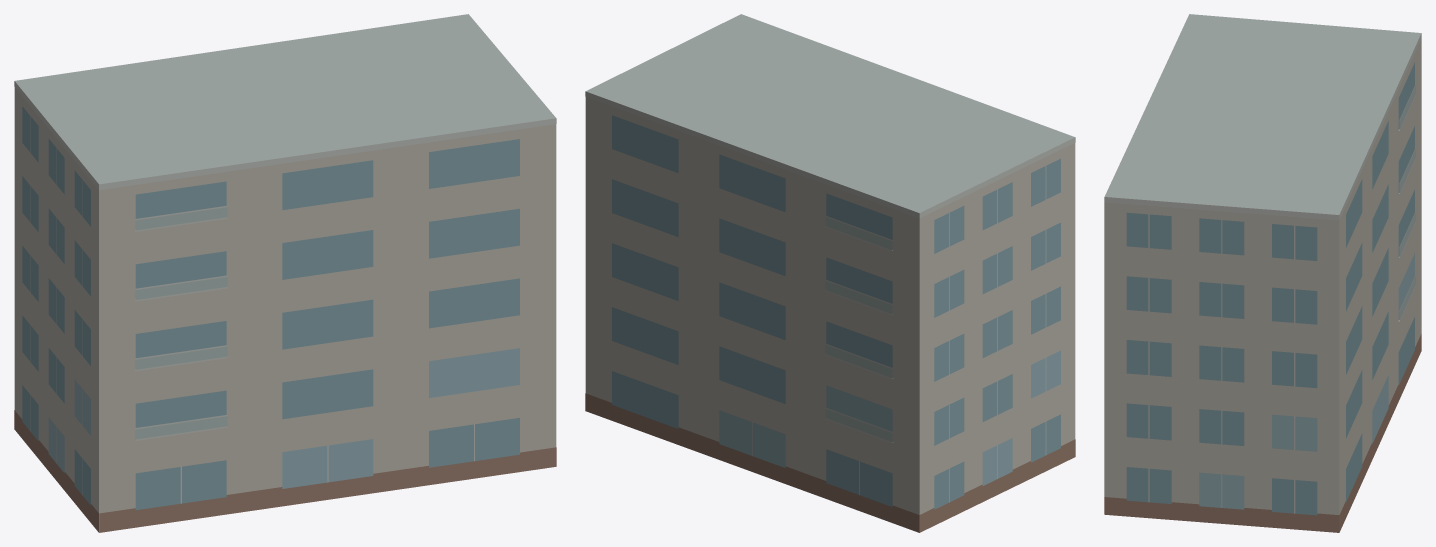
Rendered from survey-upis-32945224.glb.
3 views of the same model, side by side, from view 1: azimuth 30°, elevation 25°; view 2: azimuth 150°, elevation 25°; view 3: azimuth 270°, elevation 25° (orthographic). The views are drawn at different scales.
Visible parts, largest first — view 1: survey-upis-32945224.tmp; view 2: survey-upis-32945224.tmp; view 3: survey-upis-32945224.tmp.
Part boxes in pixels (left/top/right/bottom): survey-upis-32945224.tmp: left=14, top=14, right=556, bottom=532; survey-upis-32945224.tmp: left=585, top=14, right=1075, bottom=532; survey-upis-32945224.tmp: left=1104, top=14, right=1421, bottom=532.
Size of the model in its own units: 19.82 by 14.6 by 13.21.
